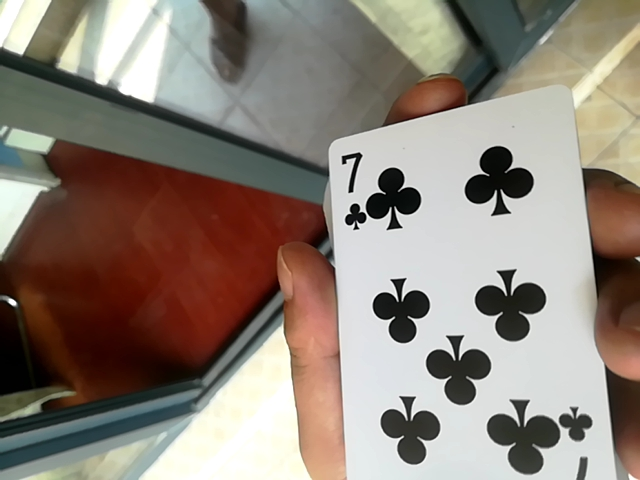mh 7: (303, 87, 622, 476)
